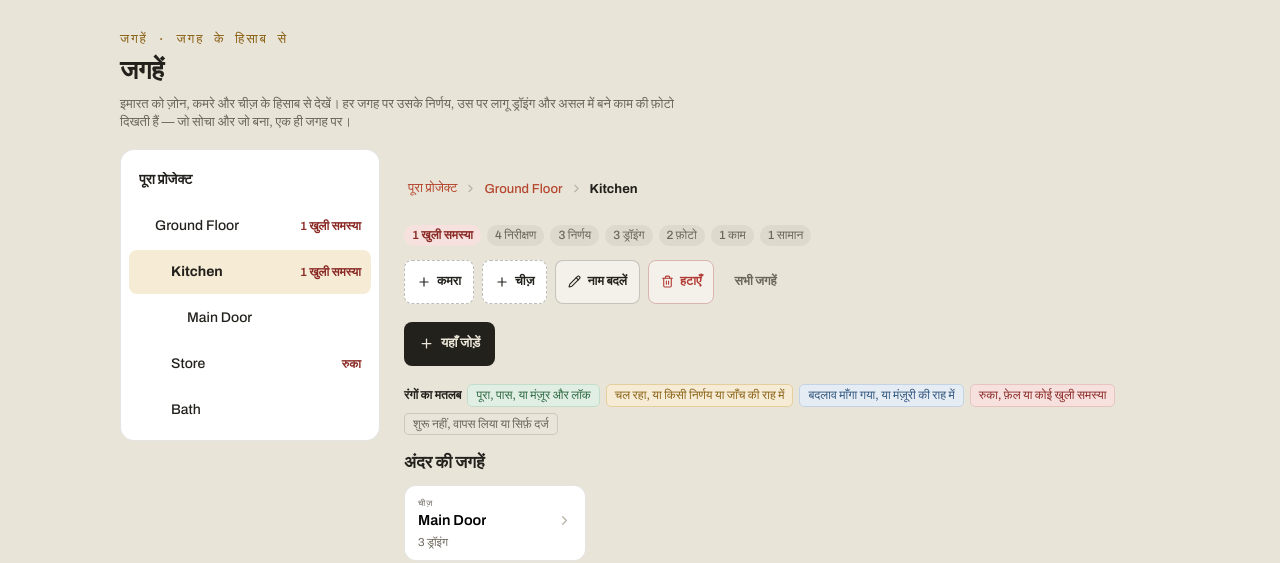
the Site Map in hi (#482 QA item 3) › the PMC's add, rename and duplicate-name forms show no English
Click the button with test id "place-add-object".
click(515, 282)  # box [482,260,548,304]
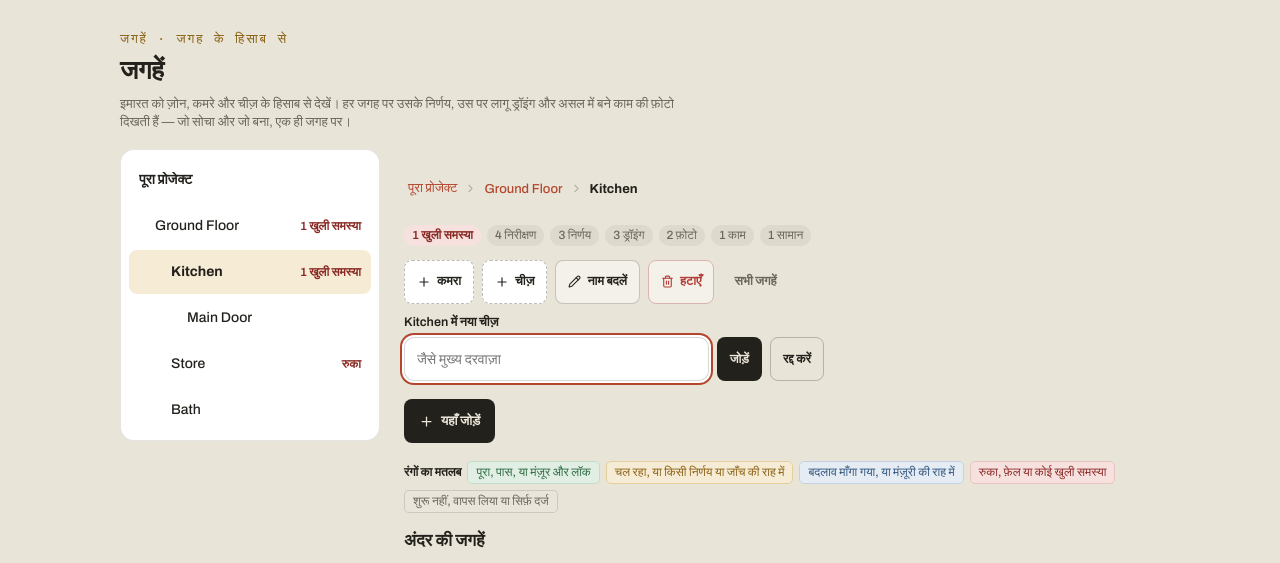
Click the button with test id "place-rename".
click(598, 282)  # box [556,260,640,304]
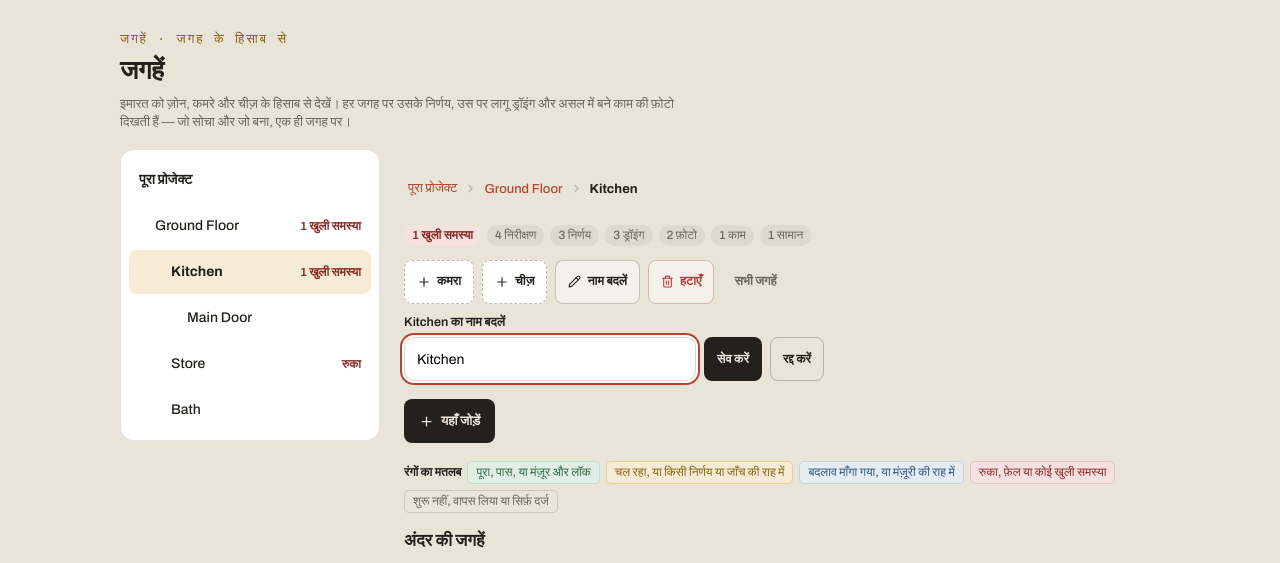
Replace the text in the field with test id "place-structure-input" with "Store" at coordinates (550, 359), box [404,337,696,381]
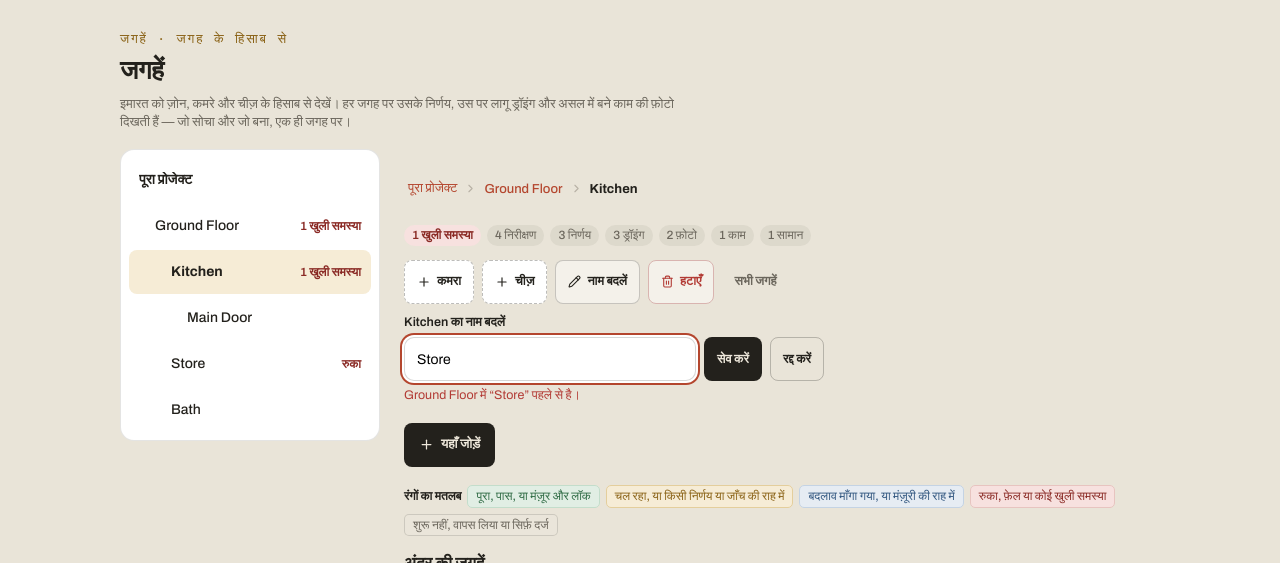
Result: the message "Ground Floor में “Store” पहले से है।" is shown at [404,388,580,402]
